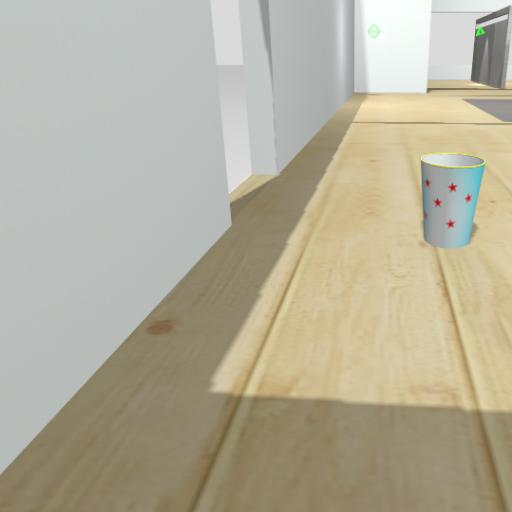Trash: (406, 140, 498, 283)
